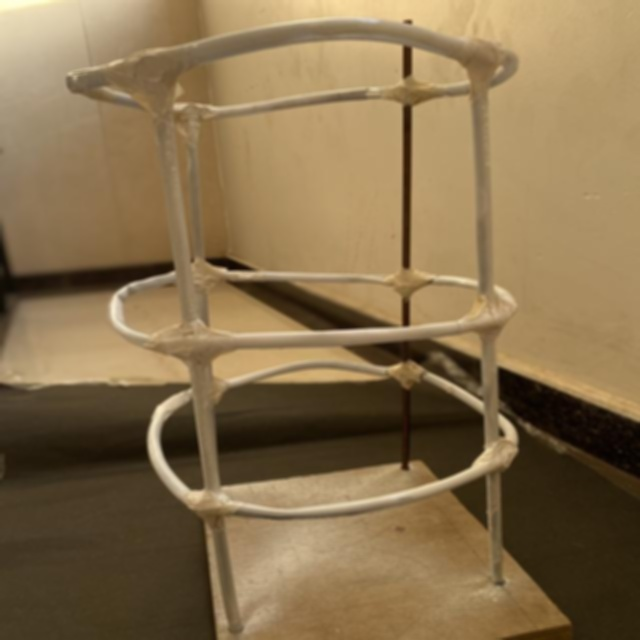silo: (66, 19, 543, 640)
